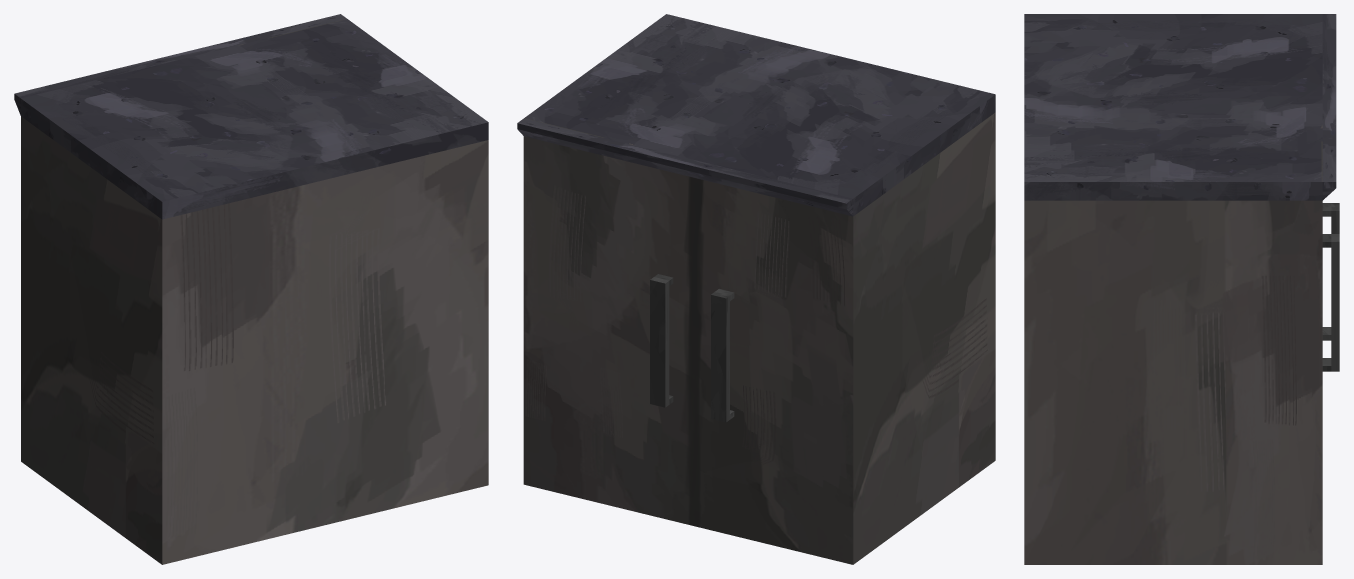
Rendered from M-Cabin3.fbx.
3 renders of one model, left to right at view 1: azimuth 30°, elevation 25°; view 2: azimuth 150°, elevation 25°; view 3: azimuth 270°, elevation 25°, orthographic. The views are drawn at different scales.
Parts seen in each view (by area): view 1: Cube.001; view 2: Cube.001; view 3: Cube.001.
Part boxes in pixels (x1,y1,x2,y2): Cube.001: (14, 14, 488, 564); Cube.001: (517, 14, 995, 564); Cube.001: (1024, 14, 1339, 564).
Bounding box in the file's own units: 80 × 63.41 × 85.
Materials: 2 (2 with a texture image).
